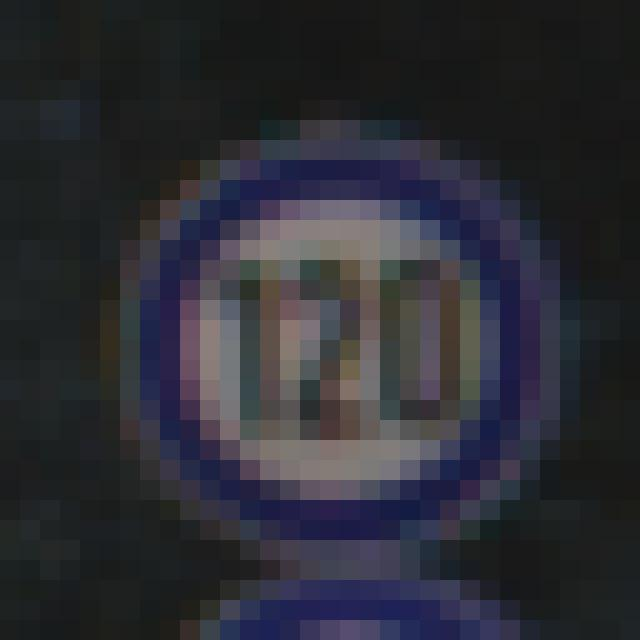SPEED LIMIT 120: (125, 121, 574, 554)
